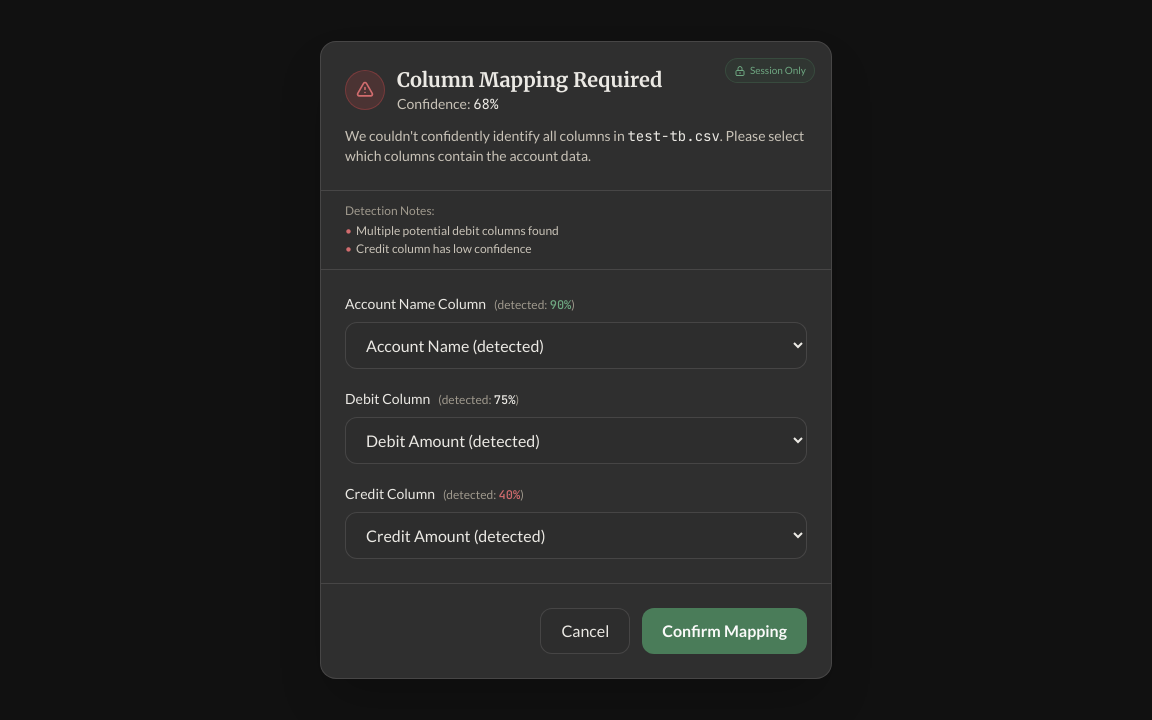
Test case: ColumnMappingModal › shows uniqueness warning when duplicate columns are selected
Select "Account Name" in the dropdown labelled "Debit Column(detected: 75%)" at (576, 440), box [345,417,807,464]
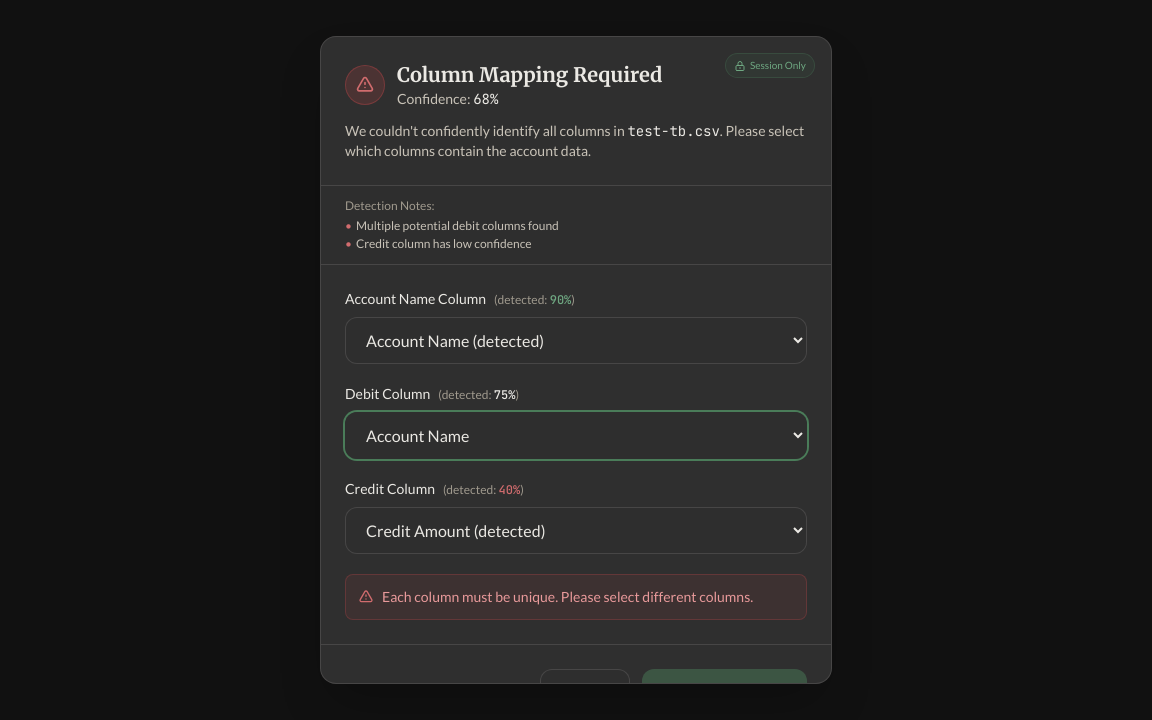
Expected: the text "Each column must be unique. Please select different columns." is shown, [382,587,753,607]
